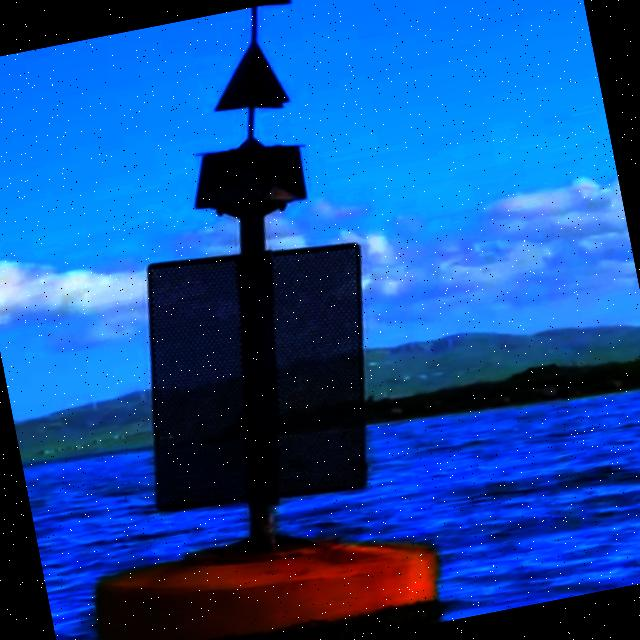marque: (1, 1, 448, 640)
